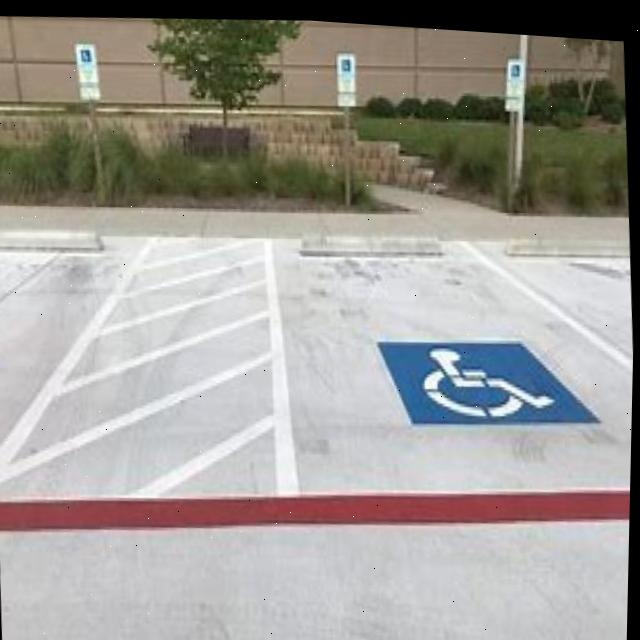symbol_of_access: (422, 328, 562, 420)
